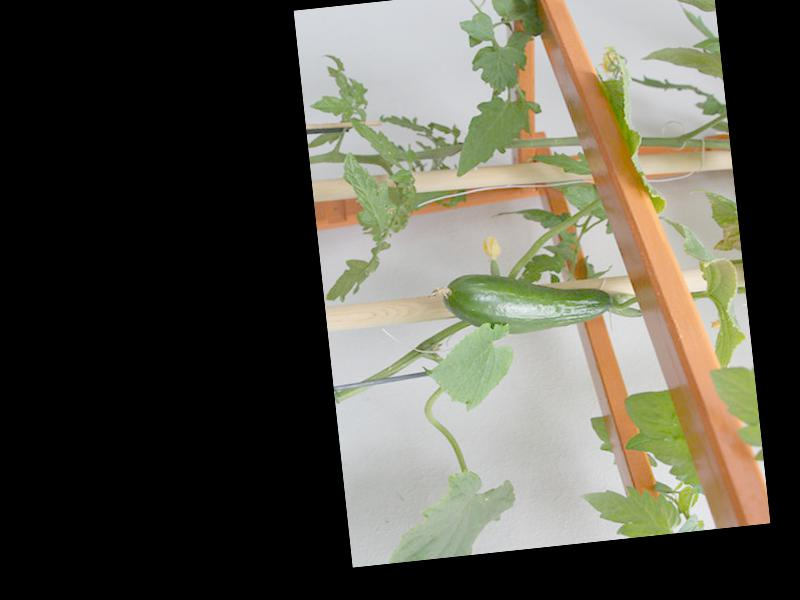Cucumber: (429, 260, 613, 341)
